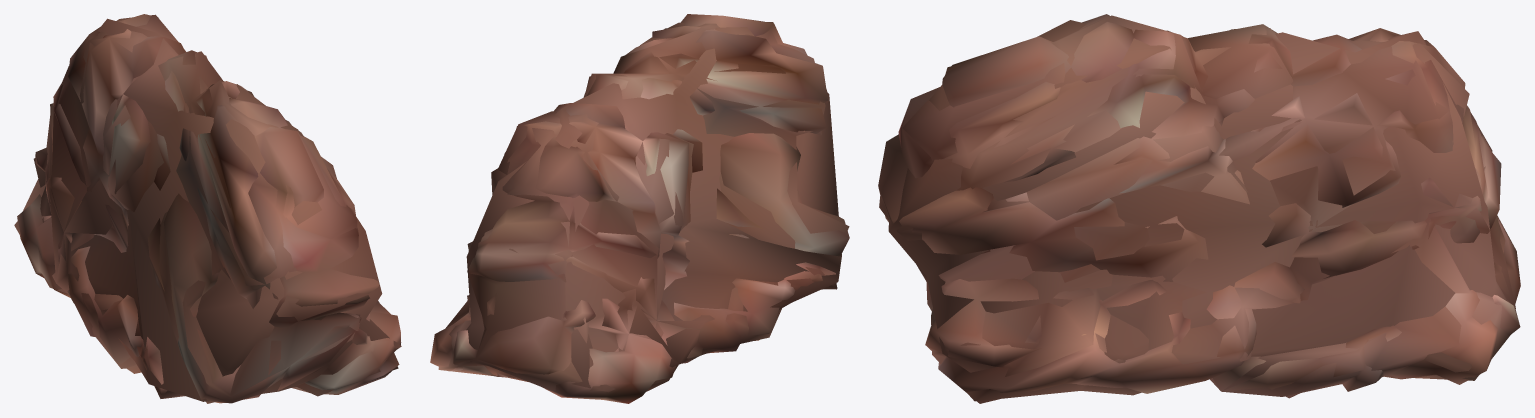
File: cliff_brown_01_2x4x2_a.dae
3 renders of one model, left to right at view 1: azimuth 30°, elevation 25°; view 2: azimuth 150°, elevation 25°; view 3: azimuth 270°, elevation 25°, orthographic. The views are drawn at different scales.
Parts seen in each view (by area): view 1: rock200, rock80, rock4; view 2: rock200, rock80, rock4; view 3: rock200, rock80, rock4.
Boxes of the visible parts, left/top/right/bottom form: rock200: left=17, top=14, right=400, bottom=403; rock80: left=14, top=14, right=401, bottom=403; rock4: left=23, top=18, right=401, bottom=401; rock200: left=430, top=14, right=849, bottom=403; rock80: left=438, top=22, right=849, bottom=392; rock4: left=466, top=27, right=841, bottom=388; rock200: left=878, top=14, right=1520, bottom=403; rock80: left=879, top=15, right=1515, bottom=401; rock4: left=888, top=20, right=1507, bottom=379.
Size of the model in its own units: 2.32 by 4.42 by 2.56.
